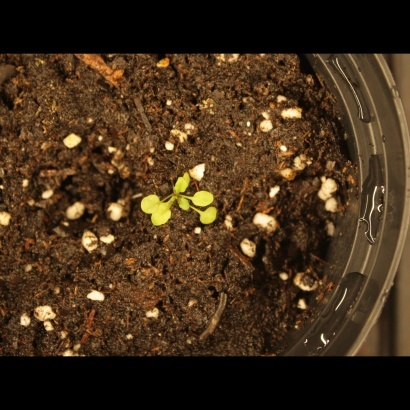leaf: (139, 193, 162, 216), (150, 203, 173, 226), (170, 173, 193, 196), (191, 186, 214, 209), (198, 203, 221, 226)
